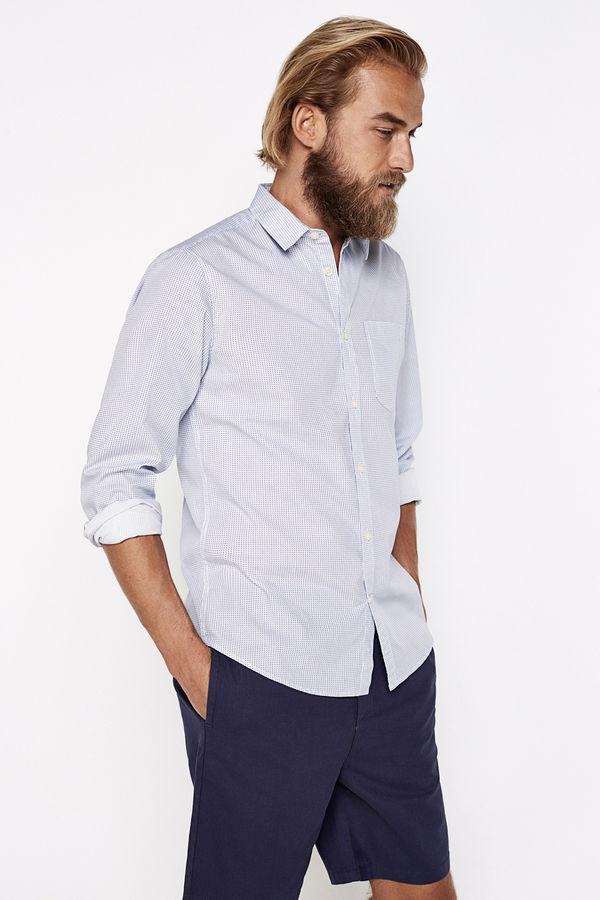teeshirt: (71, 175, 492, 711)
